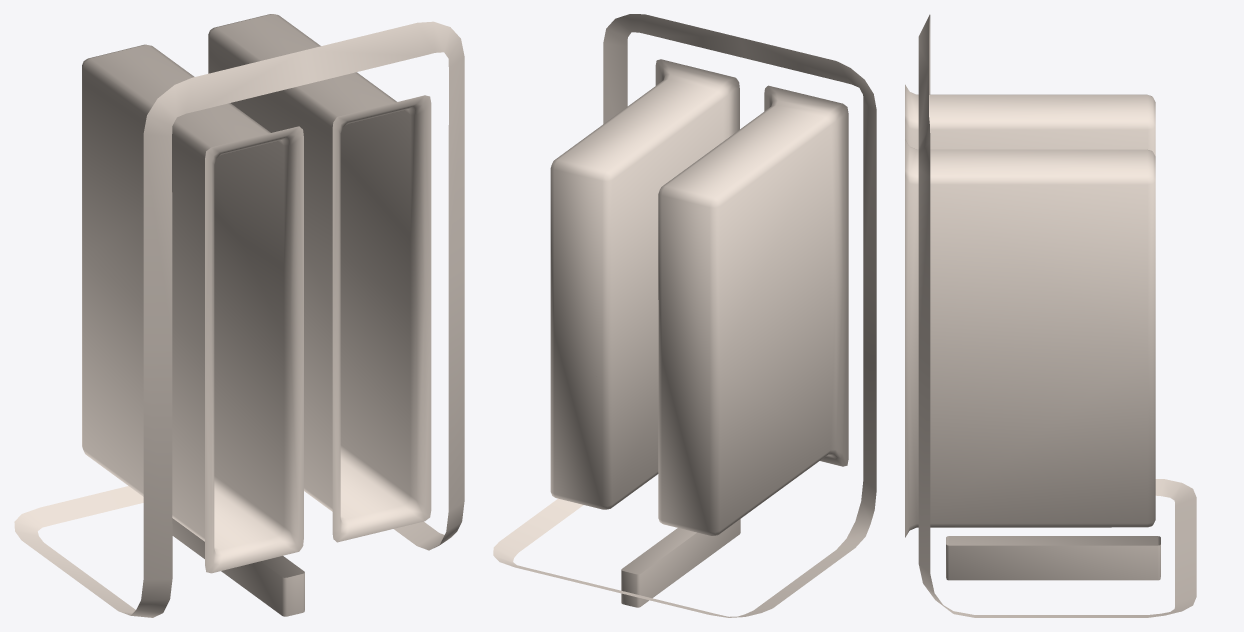
File: MeshToaster_5_0_GeomSubset_2.obj
The picture shows the model from 3 angles, left to right: view 1: azimuth 30°, elevation 25°; view 2: azimuth 150°, elevation 25°; view 3: azimuth 270°, elevation 25°; orthographic projection. The views are drawn at different scales.
Parts seen in each view (by area): view 1: MeshToaster_5_0_GeomSubset_2; view 2: MeshToaster_5_0_GeomSubset_2; view 3: MeshToaster_5_0_GeomSubset_2.
Part boxes in pixels (x1,y1,x2,y2): MeshToaster_5_0_GeomSubset_2: [14, 14, 464, 617]; MeshToaster_5_0_GeomSubset_2: [493, 14, 876, 617]; MeshToaster_5_0_GeomSubset_2: [905, 14, 1196, 617].
Bounding box in the file's own units: 0.1929 × 0.3285 × 0.19.
